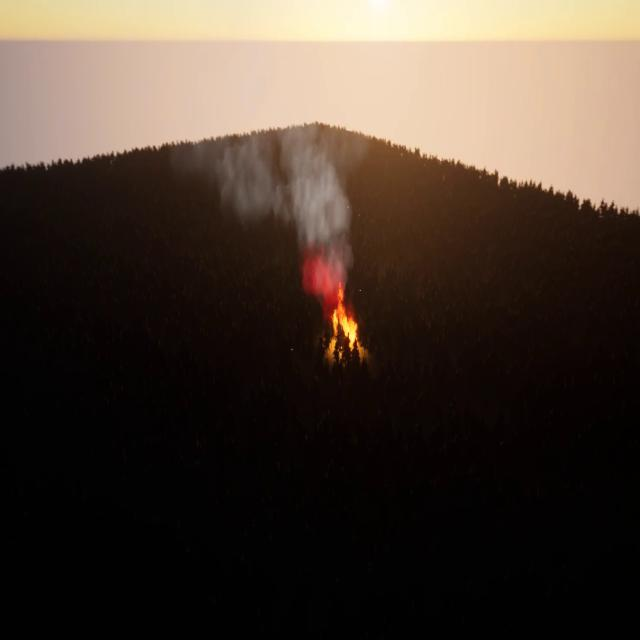fire: (328, 284, 359, 356)
smoke: (207, 125, 363, 304)
